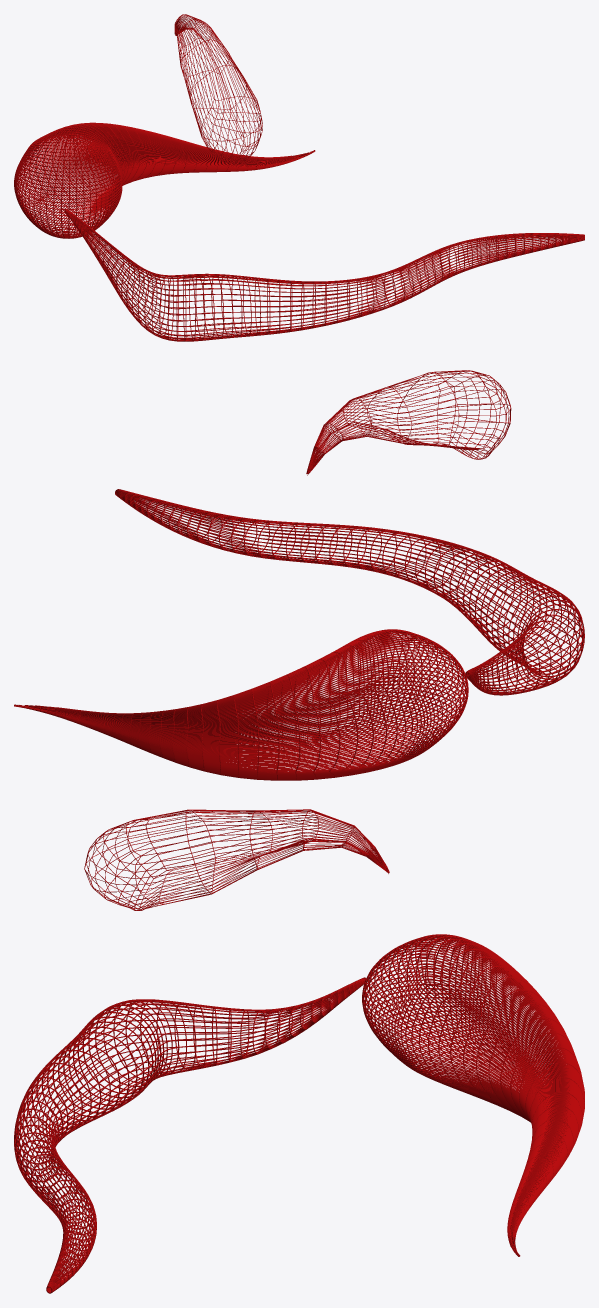
The picture shows the model from 3 angles, top to bottom: view 1: azimuth 30°, elevation 25°; view 2: azimuth 150°, elevation 25°; view 3: azimuth 270°, elevation 25°; orthographic projection. The views are drawn at different scales.
Visible parts, largest first — view 1: red tendril wireframe.002, Cube.002, Cube; view 2: Cube.002, red tendril wireframe.002, Cube; view 3: Cube.002, red tendril wireframe.002, Cube.
Part boxes in pixels (x1,y1,x2,y2): red tendril wireframe.002: (64,208,584,341); Cube.002: (14,122,315,238); Cube: (174,14,262,163); Cube.002: (14,629,468,780); red tendril wireframe.002: (115,489,584,695); Cube: (306,370,511,475); Cube.002: (362,934,584,1256); red tendril wireframe.002: (14,977,365,1293); Cube: (84,809,389,910).
Bounding box in the file's own units: 14.61 × 8.29 × 12.94.
